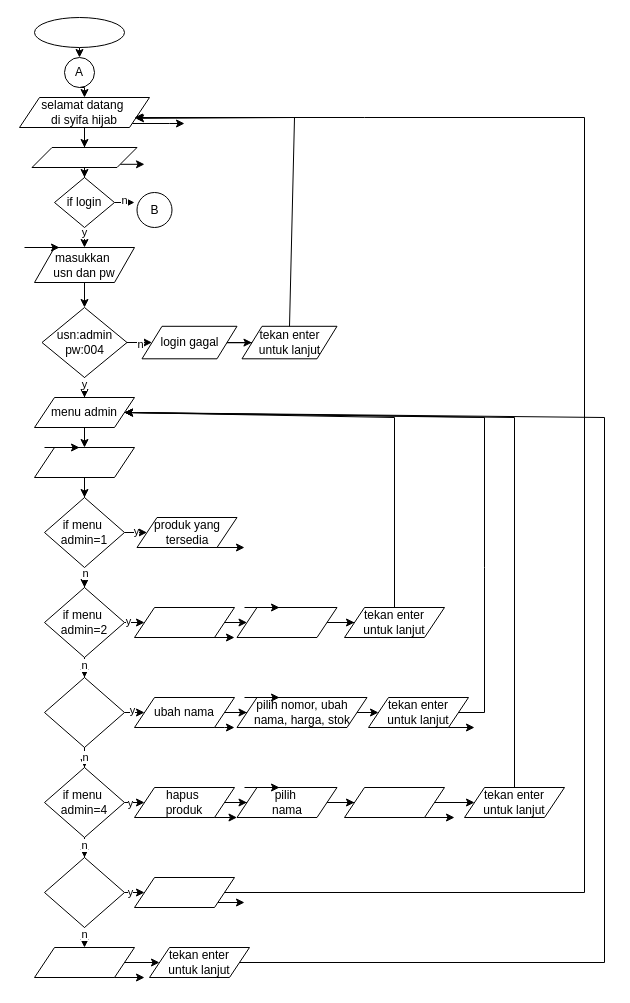
This 630x1003 diagram has some shape labels left out. The box of each missing label's shape, as (x1, y1, x2, y2) in pixels:
if menu admin=3: (44, 676, 124, 748)
if menu admin=5: (44, 856, 124, 928)
logout: (134, 876, 234, 908)
mulai: (34, 16, 124, 48)
nama, harga, stok: (236, 606, 337, 638)
pilih menu: (31, 146, 137, 168)
pilih menu admin: (34, 446, 134, 478)
pilihan tidak valid: (34, 946, 134, 978)
produk dihapus: (344, 786, 444, 818)
tambah produk: (134, 606, 234, 638)
